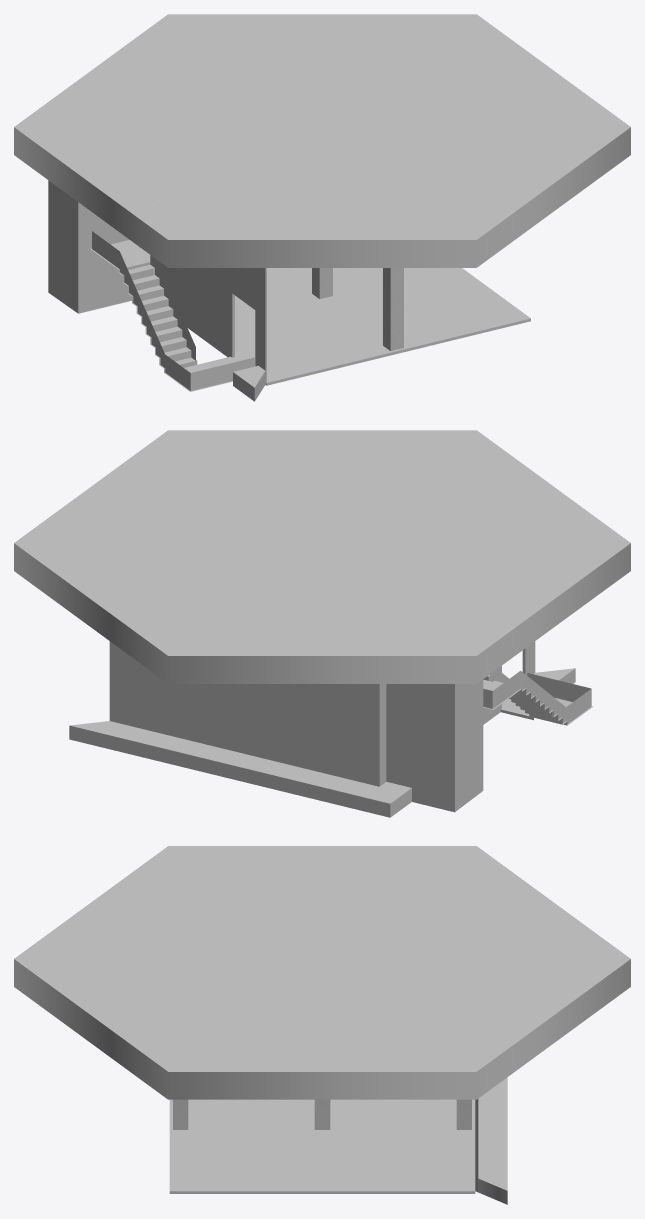
File: map_3.fbx
The picture shows the model from 3 angles, top to bottom: view 1: azimuth 30°, elevation 25°; view 2: azimuth 150°, elevation 25°; view 3: azimuth 270°, elevation 25°; orthographic projection.
Visible parts, largest first — view 1: tile, tile_border, floor_002, stair_wall, stair, pillar002, pillar001; view 2: tile, tile_border, stair_wall, wall, window_004, window_005, window_006, stair, window_001; view 3: tile, tile_border, floor_002, wall, pillar001.
Part boxes in pixels (x1,y1,x2,y2): tile: (53, 28, 591, 225); tile_border: (14, 14, 630, 267); floor_002: (188, 268, 530, 385); stair_wall: (48, 180, 266, 401); stair: (90, 226, 254, 391); pillar002: (383, 268, 403, 350); pillar001: (312, 268, 332, 299); tile: (53, 444, 591, 641); tile_border: (14, 430, 630, 683); stair_wall: (379, 641, 575, 817); wall: (69, 641, 390, 817); window_004: (286, 702, 363, 781); window_005: (206, 684, 283, 761); window_006: (125, 663, 203, 742); stair: (483, 669, 593, 725); window_001: (286, 684, 363, 718); tile: (53, 860, 591, 1057); tile_border: (14, 846, 630, 1099); floor_002: (169, 1099, 475, 1193); wall: (475, 1077, 507, 1204); pillar001: (314, 1099, 330, 1129).
Size of the model in its own units: 3464 by 1220 by 4000.
